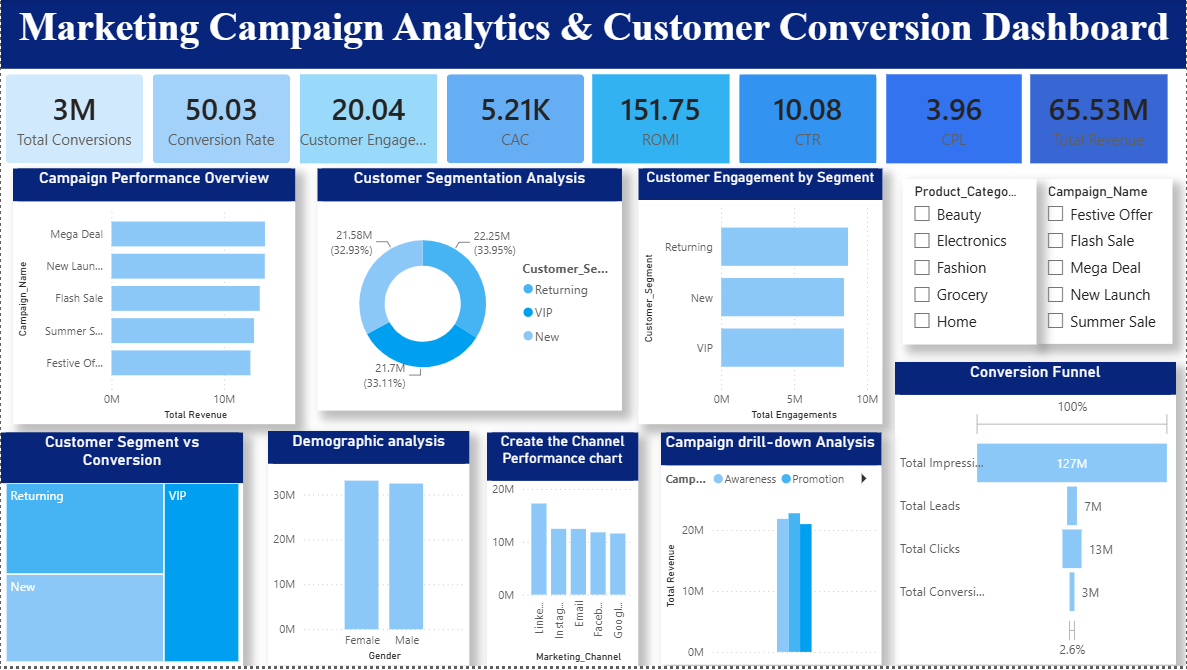

This screenshot's page, from the dashboard's own definition file:
{"tool":"powerbi","page":{"name":"Marketing_Dashboard","canvas":[1280,720],"ordinal":0},"visuals":[{"type":"textbox","box":[0,0,1280,75],"z":0},{"type":"cardVisual","fields":{"Data":["Marketing_Dataset_PowerBI.Total Conversions"]},"box":[0,75.7,158.4,106.4],"z":1000},{"type":"cardVisual","fields":{"Data":["Marketing_Dataset_PowerBI.Conversion Rate"]},"box":[158.4,75.7,158.4,106.4],"z":2000},{"type":"cardVisual","fields":{"Data":["Marketing_Dataset_PowerBI.CAC"]},"box":[475.3,75.7,158.4,106.4],"z":3000},{"type":"cardVisual","fields":{"Data":["Marketing_Dataset_PowerBI.ROMI"]},"box":[633.7,75.7,158.4,106.4],"z":4000},{"type":"cardVisual","fields":{"Data":["Marketing_Dataset_PowerBI.CTR"]},"box":[792.1,75.7,158.4,106.4],"z":5000},{"type":"cardVisual","fields":{"Data":["Marketing_Dataset_PowerBI.CPL"]},"box":[950.5,75.7,156.1,106.4],"z":6000},{"type":"cardVisual","fields":{"Data":["Marketing_Dataset_PowerBI.Customer Engagement Rate"]},"box":[316.8,75.7,158.4,106.4],"z":7000},{"type":"cardVisual","fields":{"Data":["Marketing_Dataset_PowerBI.Total Revenue"]},"box":[1106.6,75.7,158.4,106.4],"z":8000},{"type":"clusteredBarChart","title":"Campaign Performance Overview","fields":{"Category":["Marketing_Dataset_PowerBI.Campaign_Name"],"Y":["Marketing_Dataset_PowerBI.Total Revenue"]},"box":[12.6,182.3,305,276.1],"z":8001},{"type":"donutChart","title":"Customer Segmentation Analysis","fields":{"Category":["Marketing_Dataset_PowerBI.Customer_Segment"],"Y":["Marketing_Dataset_PowerBI.Total Revenue"]},"box":[341.1,182.3,328.4,261.7],"z":8002},{"type":"columnChart","title":"Demographic analysis","fields":{"Category":["Marketing_Dataset_PowerBI.Gender"],"Y":["Marketing_Dataset_PowerBI.Total Revenue"]},"box":[288.5,465.8,217.5,253],"z":8004},{"type":"columnChart","title":"Create the Channel Performance chart","fields":{"Category":["Marketing_Dataset_PowerBI.Marketing_Channel"],"Y":["Marketing_Dataset_PowerBI.Total Revenue"]},"box":[524.9,468.2,163.2,253],"z":8005},{"type":"barChart","title":"Customer Engagement by Segment","fields":{"Y":["Marketing_Dataset_PowerBI.Total Engagements"],"Category":["Marketing_Dataset_PowerBI.Customer_Segment"]},"box":[687.5,182.3,263.5,276.1],"z":8006},{"type":"funnel","title":"Conversion Funnel","fields":{"Y":["Marketing_Dataset_PowerBI.Total Impressions","Marketing_Dataset_PowerBI.Total Leads","Marketing_Dataset_PowerBI.Total Clicks","Marketing_Dataset_PowerBI.Total Conversions"]},"box":[965.4,391.6,303.2,326.6],"z":8007},{"type":"slicer","fields":{"Values":["Marketing_Dataset_PowerBI.Campaign_Name"]},"box":[1117.3,194.3,147.3,178.1],"z":8008},{"type":"slicer","fields":{"Values":["Marketing_Dataset_PowerBI.Product_Category"]},"box":[972.6,194.9,144.4,178.6],"z":8009},{"type":"clusteredColumnChart","title":"Campaign drill-down Analysis","fields":{"Series":["Marketing_Dataset_PowerBI.Campaign_Type"],"Y":["Marketing_Dataset_PowerBI.Total Revenue"]},"box":[712.8,467.4,238.2,250.8],"z":8010},{"type":"treemap","title":"Customer Segment vs Conversion","fields":{"Group":["Marketing_Dataset_PowerBI.Customer_Segment"],"Values":["Marketing_Dataset_PowerBI.Total Conversions"]},"box":[0,467.4,261.7,252.6],"z":8011}]}

Visuals, with their boxes in screenshot pixels (x1, y1, x2, y2), scaled from the page's 1280x720 canvas onto the 1187x670 screenshot:
textbox: bbox=(0, 0, 1186, 70)
cardVisual - Marketing_Dataset_PowerBI.Total Conversions: bbox=(0, 70, 147, 169)
cardVisual - Marketing_Dataset_PowerBI.Conversion Rate: bbox=(147, 70, 294, 169)
cardVisual - Marketing_Dataset_PowerBI.CAC: bbox=(441, 70, 588, 169)
cardVisual - Marketing_Dataset_PowerBI.ROMI: bbox=(588, 70, 735, 169)
cardVisual - Marketing_Dataset_PowerBI.CTR: bbox=(735, 70, 881, 169)
cardVisual - Marketing_Dataset_PowerBI.CPL: bbox=(881, 70, 1026, 169)
cardVisual - Marketing_Dataset_PowerBI.Customer Engagement Rate: bbox=(294, 70, 441, 169)
cardVisual - Marketing_Dataset_PowerBI.Total Revenue: bbox=(1026, 70, 1173, 169)
"Campaign Performance Overview" clusteredBarChart: bbox=(12, 170, 295, 427)
"Customer Segmentation Analysis" donutChart: bbox=(316, 170, 621, 413)
"Demographic analysis" columnChart: bbox=(268, 433, 469, 669)
"Create the Channel Performance chart" columnChart: bbox=(487, 436, 638, 669)
"Customer Engagement by Segment" barChart: bbox=(638, 170, 882, 427)
"Conversion Funnel" funnel: bbox=(895, 364, 1176, 668)
slicer - Marketing_Dataset_PowerBI.Campaign_Name: bbox=(1036, 181, 1173, 347)
slicer - Marketing_Dataset_PowerBI.Product_Category: bbox=(902, 181, 1036, 348)
"Campaign drill-down Analysis" clusteredColumnChart: bbox=(661, 435, 882, 668)
"Customer Segment vs Conversion" treemap: bbox=(0, 435, 243, 669)
